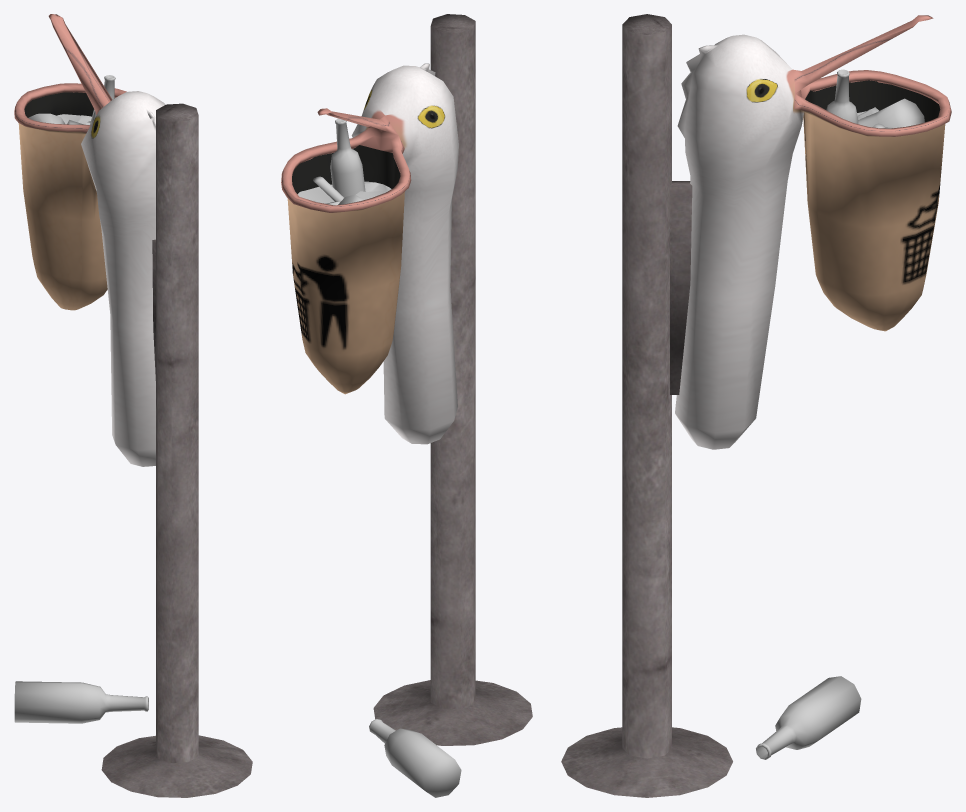
The model's file is PelicanBin01Trash.fbx.
3 renders of one model, left to right at view 1: azimuth 30°, elevation 25°; view 2: azimuth 150°, elevation 25°; view 3: azimuth 270°, elevation 25°, orthographic. The views are drawn at different scales.
Parts seen in each view (by area): view 1: Cylinder, trash; view 2: Cylinder, trash; view 3: Cylinder, trash.
Part boxes in pixels (bbox=[...]): Cylinder: bbox=[14, 14, 252, 797]; trash: bbox=[14, 75, 148, 723]; Cylinder: bbox=[281, 14, 532, 745]; trash: bbox=[297, 118, 461, 797]; Cylinder: bbox=[561, 14, 951, 797]; trash: bbox=[756, 69, 924, 759].
Size of the model in its own units: 34.06 by 142 by 67.5.
